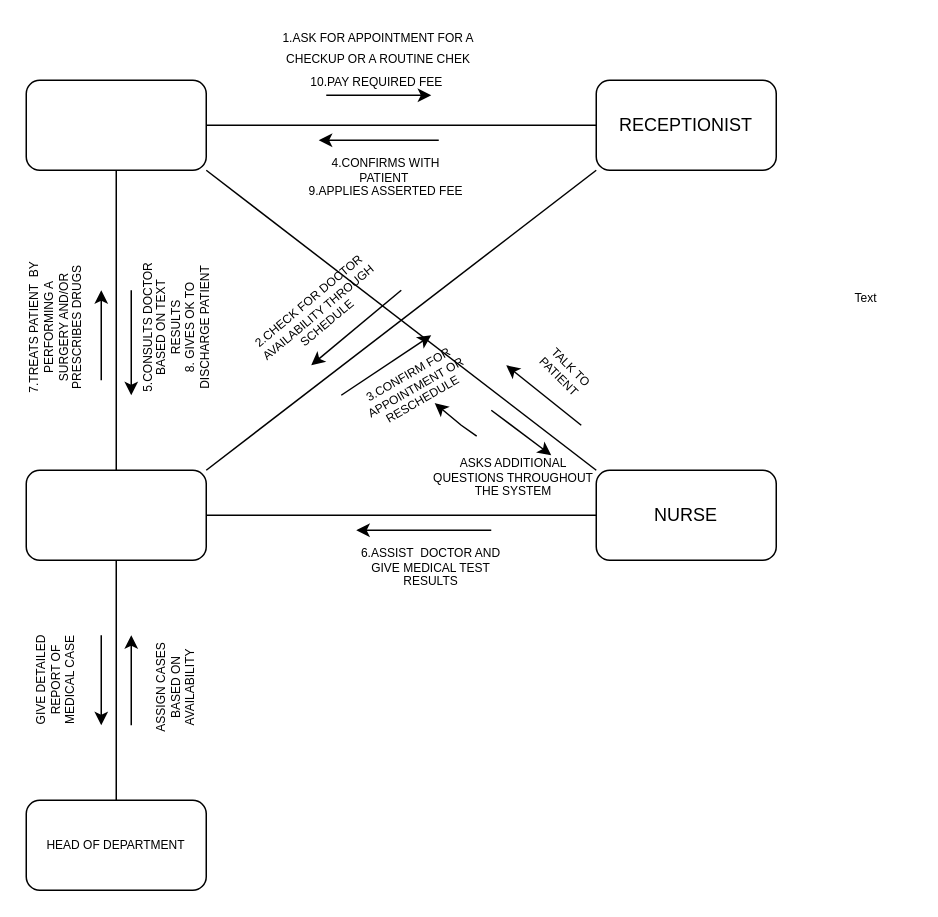
This 938x917 diagram has some shape labels left out. Here are the shapes that lost their labels. From the top down, the centre of each, then its label:
(115,124): PATIENT
(115,514): DOCTOR/SURGEON
